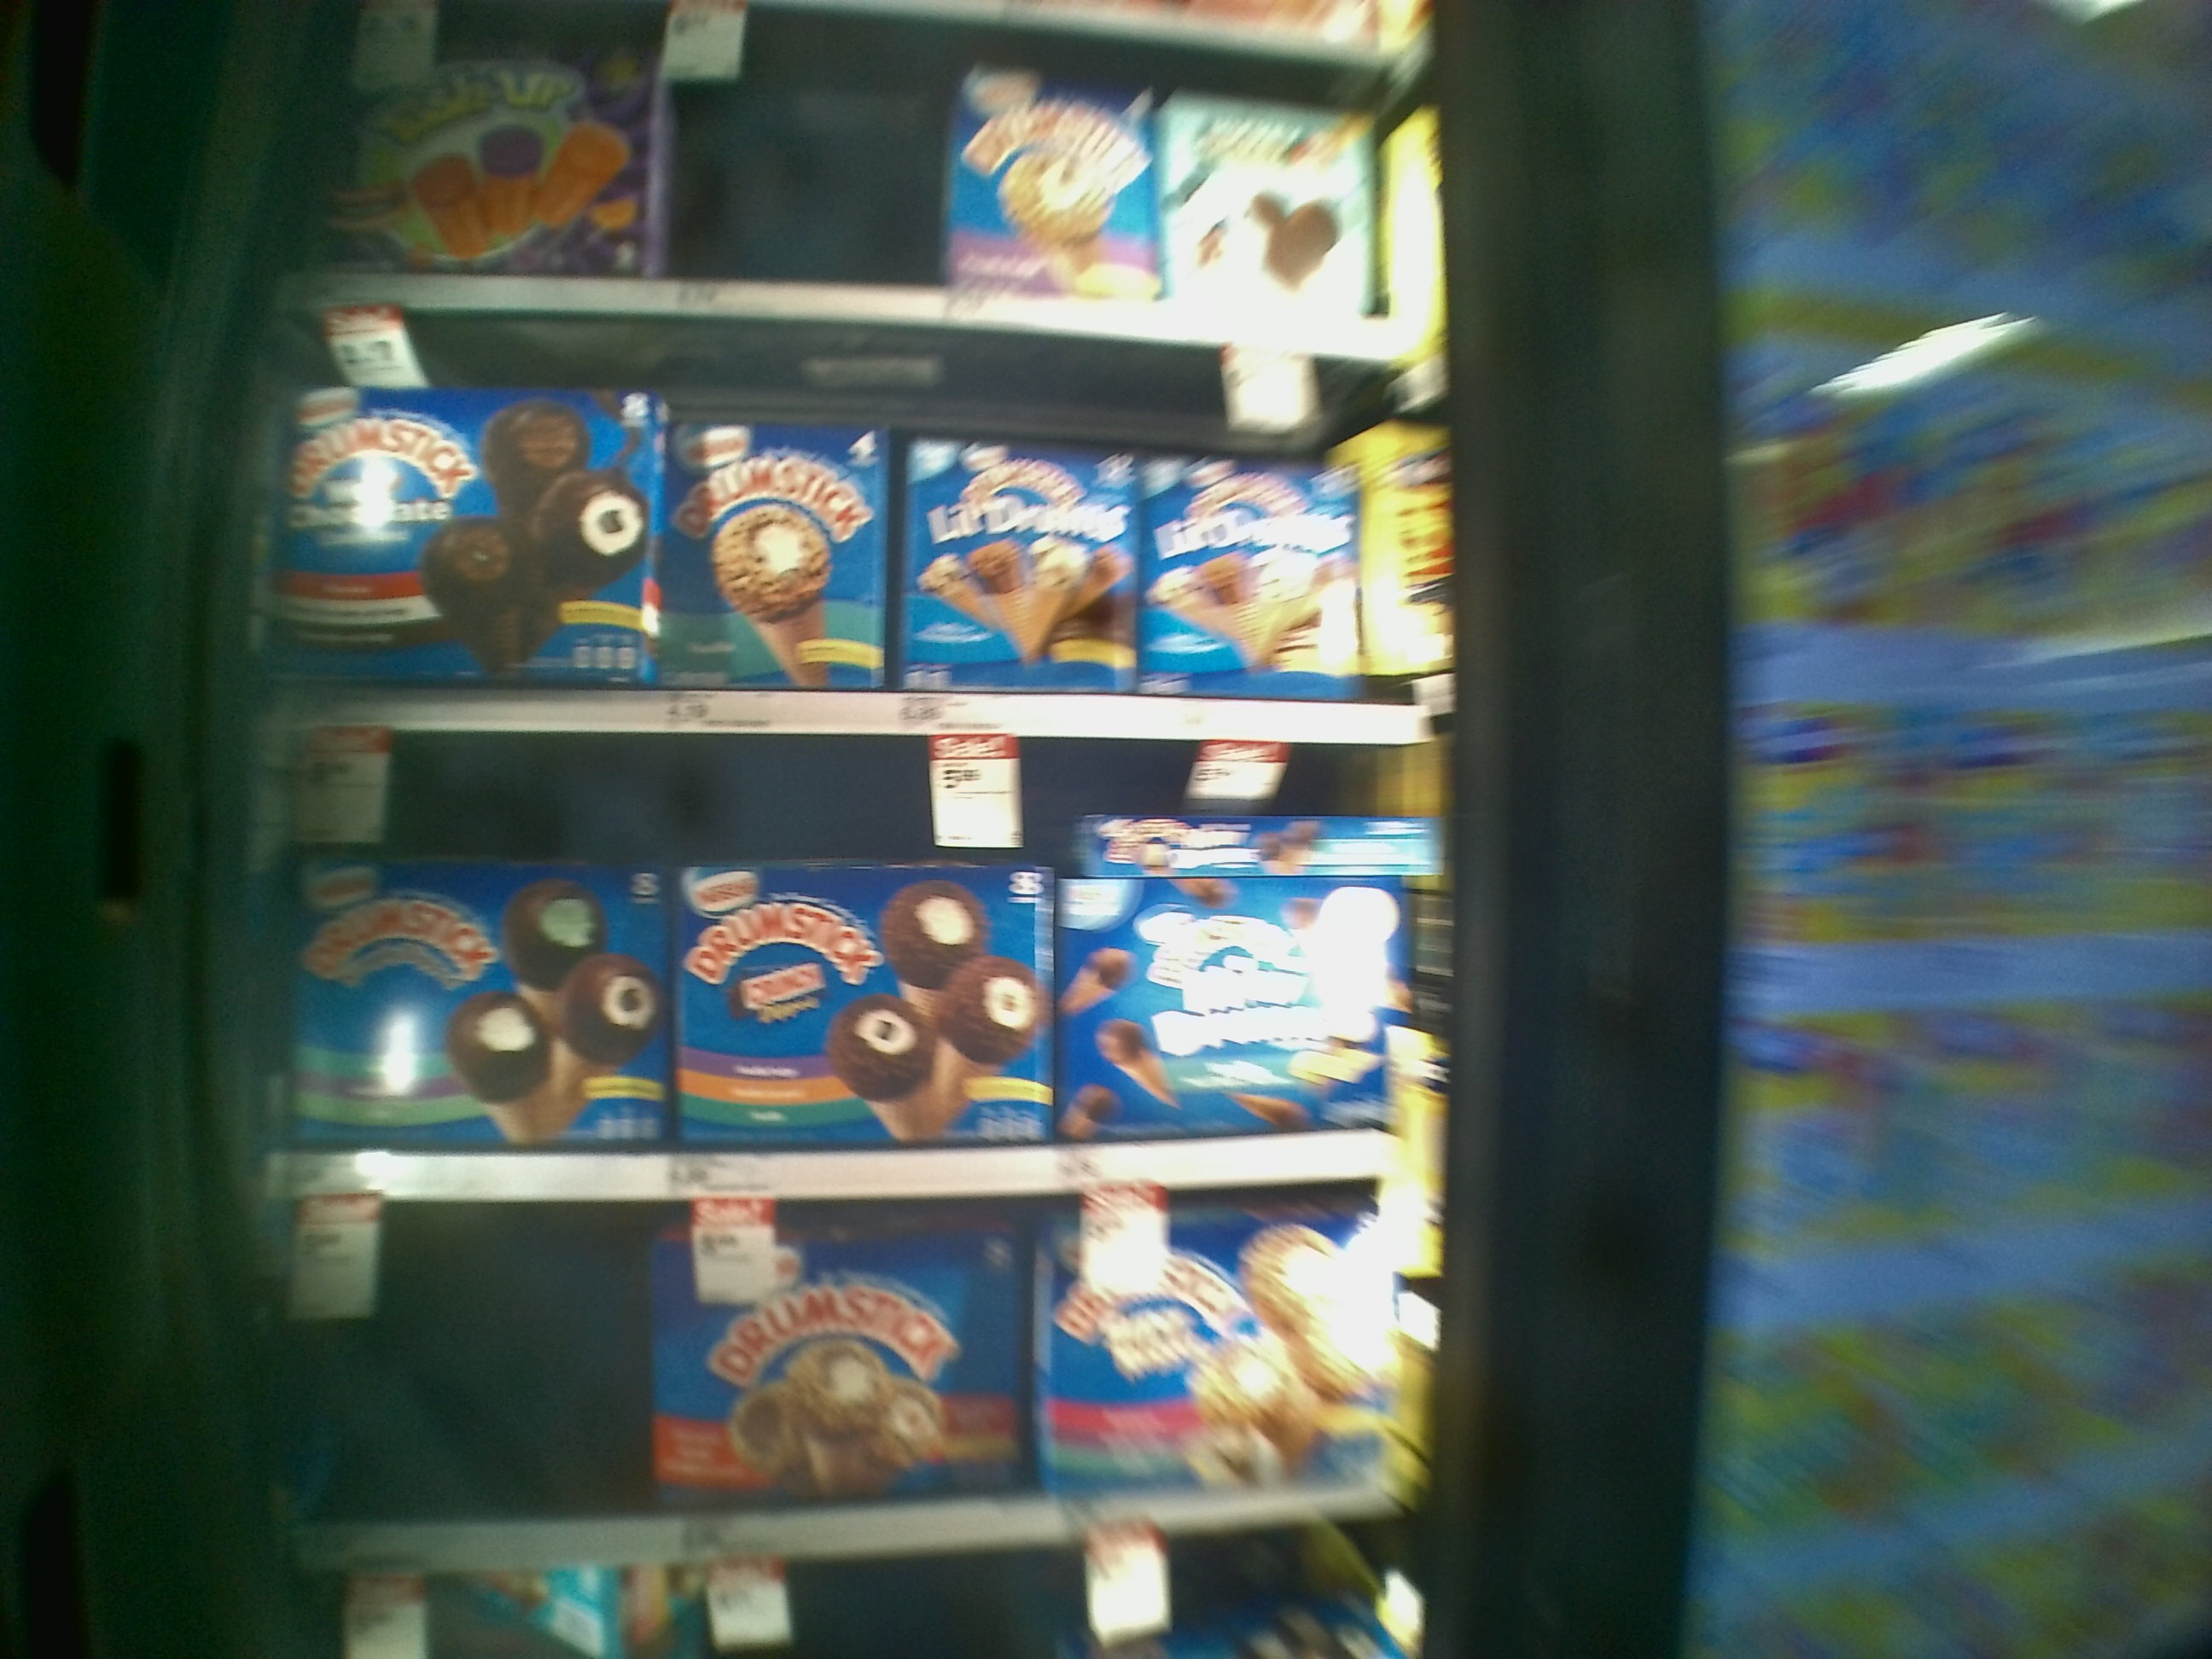shelf: (240, 734, 1447, 1195), (240, 310, 1458, 748), (233, 1202, 1458, 1570)
